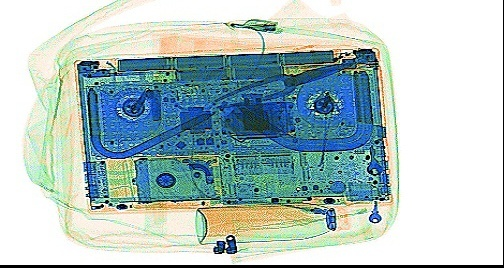pressure: (194, 201, 349, 244)
scissors: (202, 60, 353, 132)
